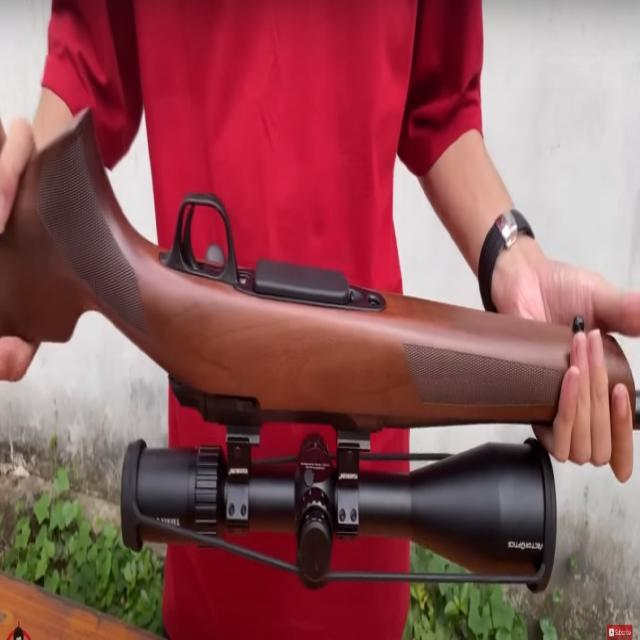rifle: (29, 96, 637, 600)
